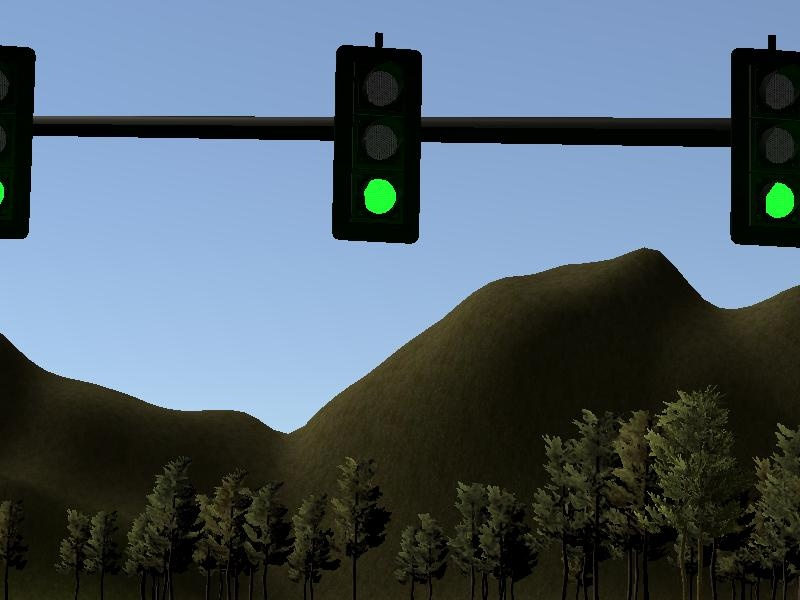GREEN: (323, 41, 443, 251), (720, 41, 800, 265)
